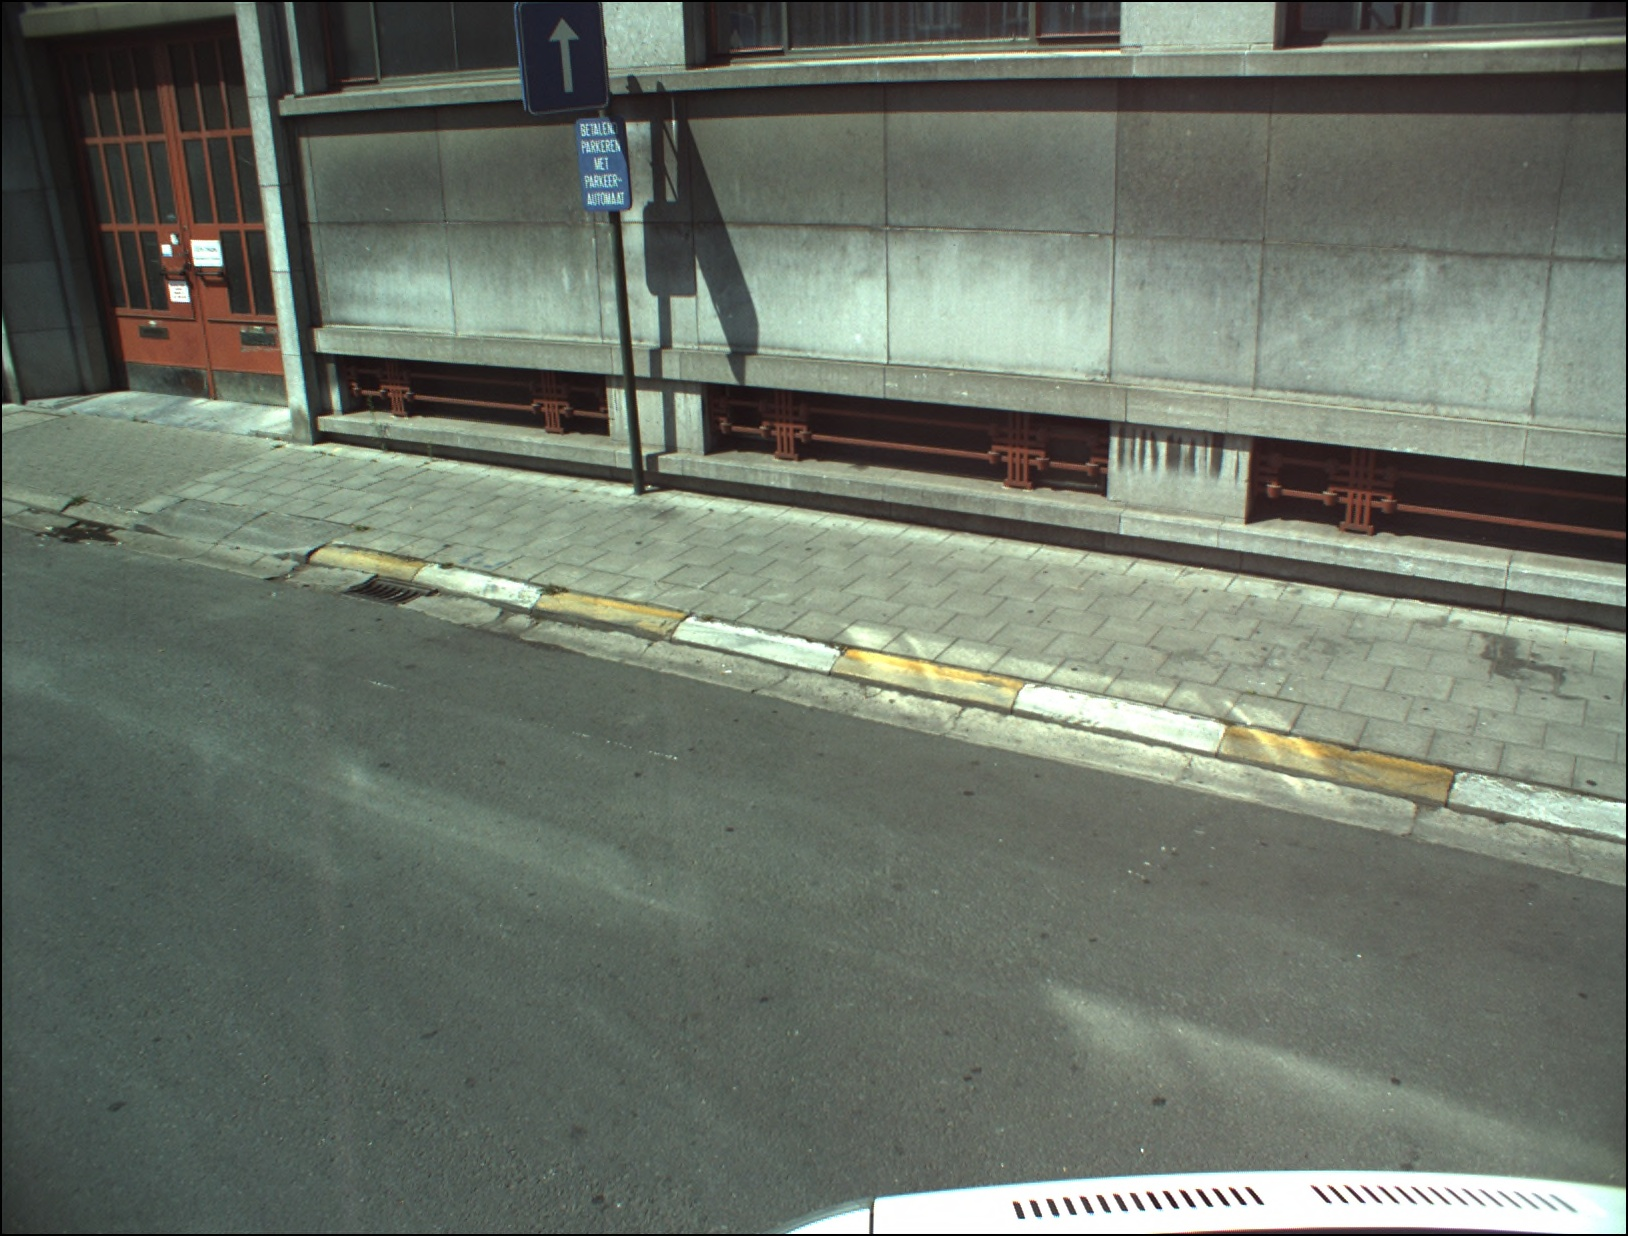oneway: (515, 4, 611, 116)
